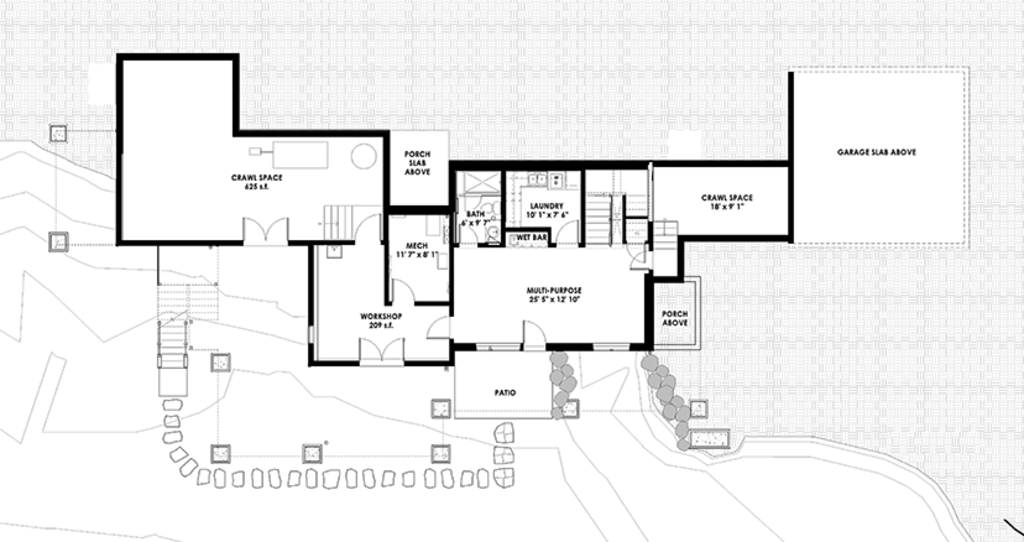door: (237, 213, 295, 252), (356, 334, 411, 373), (516, 314, 547, 354), (421, 312, 454, 343), (389, 271, 414, 311)
stairs: (153, 279, 222, 373), (581, 162, 652, 249), (646, 213, 689, 278), (323, 207, 359, 243)
window: (588, 341, 635, 353)
